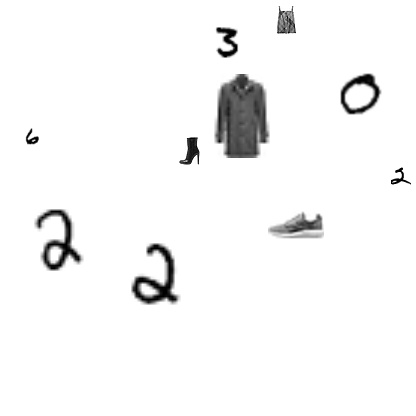0: (331, 64, 387, 120)
2: (114, 235, 198, 319), (17, 198, 101, 282), (385, 163, 413, 191)
3: (206, 20, 248, 62)
6: (20, 127, 42, 149)
Ankle_boot: (175, 137, 203, 165)
Coat: (200, 74, 284, 158)
Shirt: (272, 6, 300, 34)
Sneaker: (268, 196, 324, 252)
